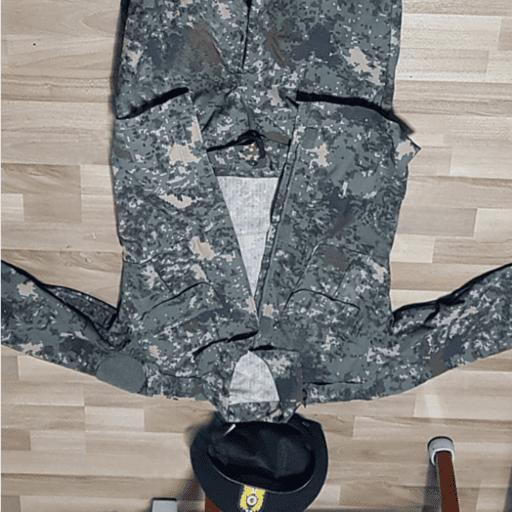korea army: (5, 7, 506, 416)
